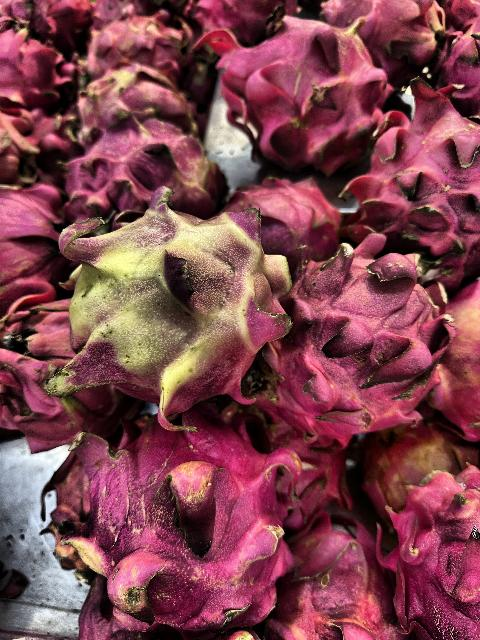buah-naga-belum-matang: (50, 195, 290, 407), (61, 110, 224, 208), (70, 59, 198, 134), (440, 279, 480, 435)
buah-naga-matang: (47, 425, 296, 625), (280, 238, 438, 436), (200, 18, 382, 164), (362, 90, 480, 282), (272, 512, 396, 640), (388, 468, 480, 640), (5, 296, 75, 449), (232, 177, 338, 257), (323, 0, 437, 70), (2, 180, 66, 302), (0, 22, 68, 114), (82, 15, 184, 70), (438, 15, 480, 105), (189, 1, 291, 32)
